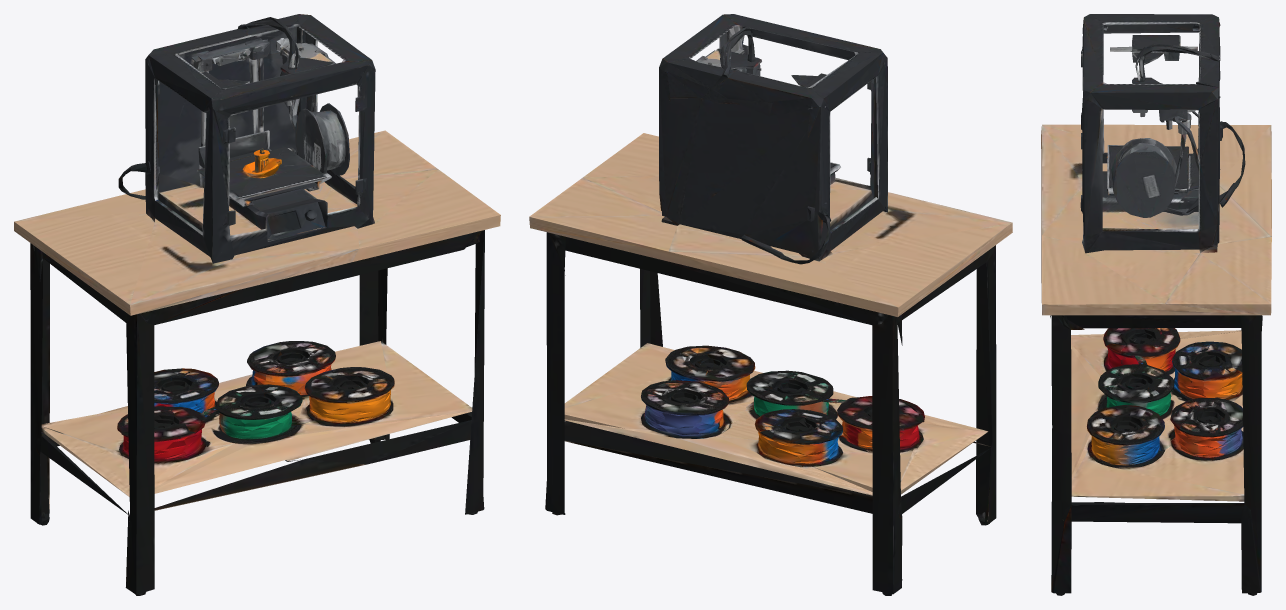
The model's file is printer_bench.glb.
3 views of the same model, side by side, from view 1: azimuth 30°, elevation 25°; view 2: azimuth 150°, elevation 25°; view 3: azimuth 270°, elevation 25° (orthographic).
Parts seen in each view (by area): view 1: 0; view 2: 0; view 3: 0.
Boxes of the visible parts, x1,y1,x2,y2 form: 0: (14,14,500,595); 0: (529,14,1012,595); 0: (1041,14,1271,595).
Size of the model in its own units: 1.2 by 1.5 by 0.65.
1 material, 1 textured.
